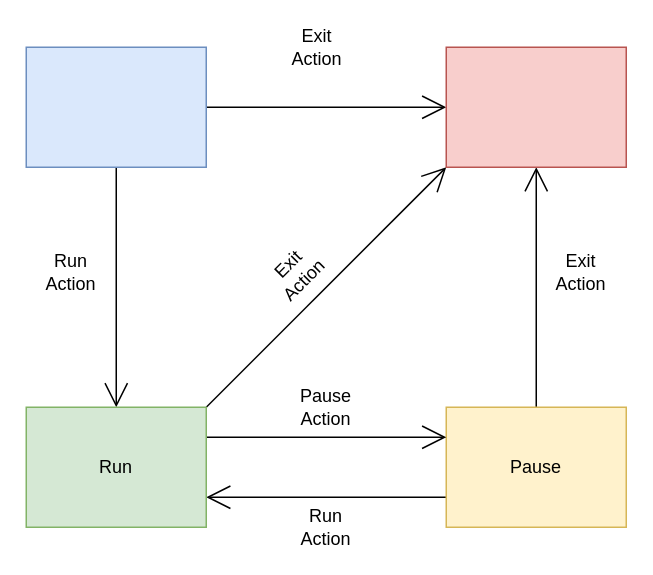
Some shapes in this 653 by 575 pixel diagram are drawn without their labels. The shapes that lost their labels are listed below. From the top down, each one's centre as x and y in pixels, then its label:
pixel 115 106: Enter
pixel 535 106: Exit
